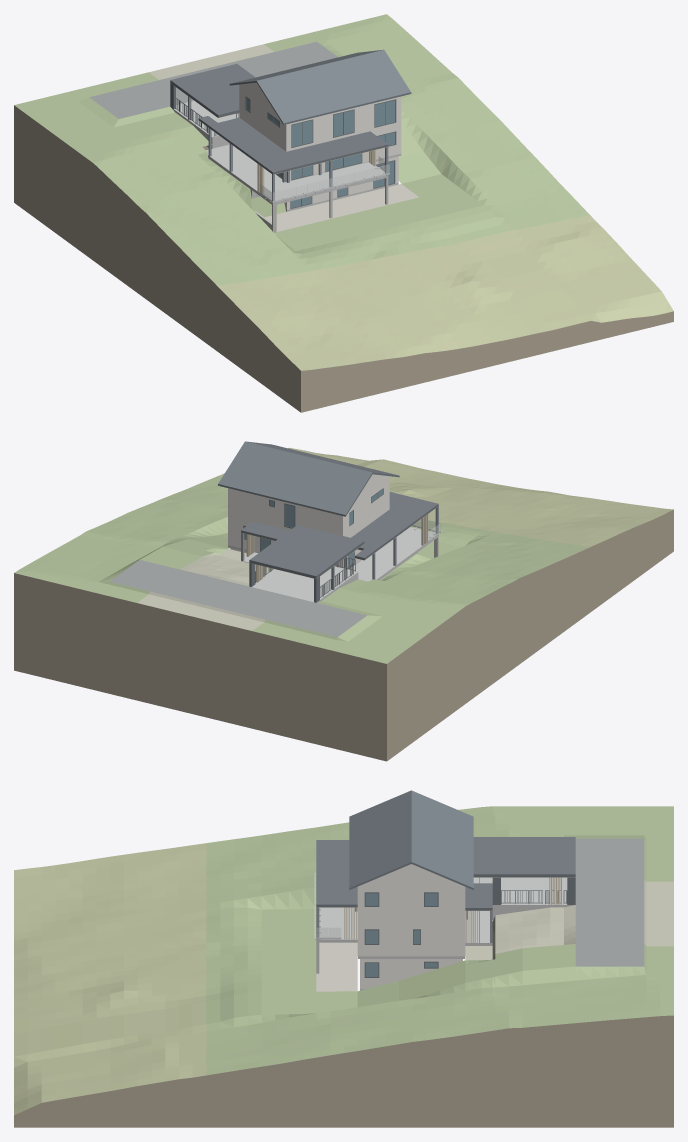
The model's file is Schaffernak_Haus_B.glb.
3 views of the same model, one above another, from view 1: azimuth 30°, elevation 25°; view 2: azimuth 150°, elevation 25°; view 3: azimuth 270°, elevation 25° (orthographic). The views are drawn at different scales.
Visible parts, largest first — view 1: Foto_Gelaende_Rasen_Boeschung, Foto_Gelaende_Hang_unten, Foto_Gelaende_Modellrand, Satteldach_0, Strasse_parallel_zum_Haus_schematisch, Foto_Gelaende_Kies_Kellerbereich, Entwurf_Dach_vorne, Carport_Dach, Balkon_vorne, Foto_Gelaende_Seitliche_Gruenflaeche, Entwurf_Dach_links, Foto_Gelaende_Rueckseite (+3 smaller); view 2: Foto_Gelaende_Modellrand, Foto_Gelaende_Rasen_Boeschung, Foto_Gelaende_Hang_unten, Strasse_parallel_zum_Haus_schematisch, Satteldach_1, Foto_Gelaende_Rueckseite, Carport_Dach, Foto_Gelaende_Seitliche_Gruenflaeche, Carport_Boden, Entwurf_Dach_links, Balkon_links, OG_back_Wand0 (+5 smaller); view 3: Foto_Gelaende_Rasen_Boeschung, Foto_Gelaende_Modellrand, Foto_Gelaende_Hang_unten, Strasse_parallel_zum_Haus_schematisch, Foto_Gelaende_Rueckseite, Foto_Gelaende_Seitliche_Gruenflaeche, Satteldach_0, Satteldach_1, Carport_Dach, Entwurf_Dach_vorne, Foto_Gelaende_Kies_Kellerbereich, Carport_Boden (+9 smaller).
Part boxes in pixels (x1,y1,x2,y2): Foto_Gelaende_Rasen_Boeschung: [14, 14, 589, 285]; Foto_Gelaende_Hang_unten: [217, 215, 673, 370]; Foto_Gelaende_Modellrand: [14, 105, 673, 412]; Satteldach_0: [256, 50, 411, 124]; Strasse_parallel_zum_Haus_schematisch: [89, 41, 337, 118]; Foto_Gelaende_Kies_Kellerbereich: [265, 184, 418, 231]; Entwurf_Dach_vorne: [255, 131, 388, 174]; Carport_Dach: [171, 64, 254, 114]; Balkon_vorne: [255, 162, 388, 205]; Foto_Gelaende_Seitliche_Gruenflaeche: [264, 34, 440, 183]; Entwurf_Dach_links: [208, 117, 285, 160]; Foto_Gelaende_Rueckseite: [149, 44, 273, 79]; Foto_Gelaende_Modellrand: [14, 509, 673, 761]; Foto_Gelaende_Rasen_Boeschung: [14, 476, 589, 663]; Foto_Gelaende_Hang_unten: [218, 447, 673, 546]; Strasse_parallel_zum_Haus_schematisch: [110, 560, 366, 636]; Satteldach_1: [218, 441, 372, 516]; Foto_Gelaende_Rueckseite: [137, 549, 272, 630]; Carport_Dach: [250, 525, 363, 575]; Foto_Gelaende_Seitliche_Gruenflaeche: [97, 533, 229, 602]; Carport_Boden: [252, 569, 352, 602]; Entwurf_Dach_links: [351, 509, 420, 552]; Balkon_links: [351, 540, 420, 580]; OG_back_Wand0: [295, 504, 345, 535]; Foto_Gelaende_Rasen_Boeschung: [206, 806, 673, 1075]; Foto_Gelaende_Modellrand: [14, 1015, 673, 1127]; Foto_Gelaende_Hang_unten: [14, 843, 206, 1115]; Strasse_parallel_zum_Haus_schematisch: [575, 838, 644, 966]; Foto_Gelaende_Rueckseite: [465, 879, 673, 960]; Foto_Gelaende_Seitliche_Gruenflaeche: [357, 944, 673, 1007]; Satteldach_0: [349, 790, 411, 889]; Satteldach_1: [411, 790, 473, 889]; Carport_Dach: [473, 837, 575, 874]; Entwurf_Dach_vorne: [316, 840, 357, 907]; Foto_Gelaende_Kies_Kellerbereich: [316, 942, 357, 991]; Carport_Boden: [492, 877, 573, 906].
Size of the model in its own units: 36 by 16.06 by 48.
